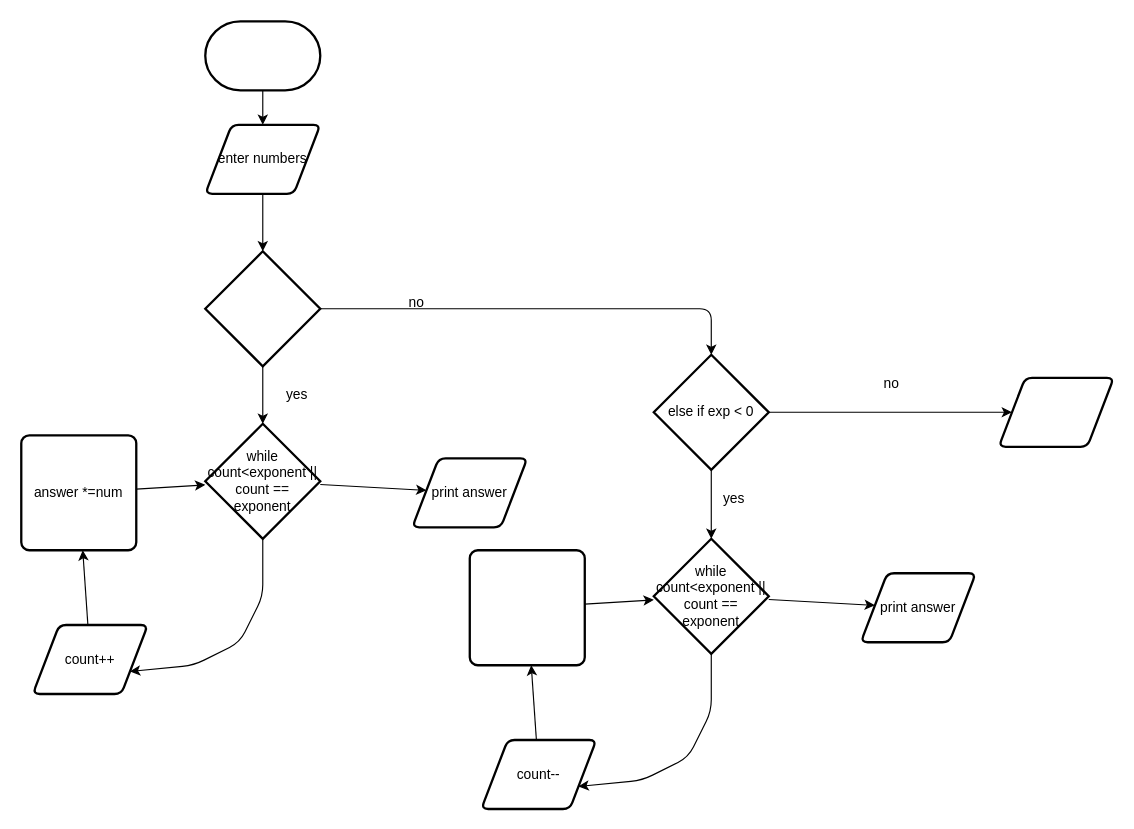
This 1134x829 diagram has some shape labels left out. Here are the shapes that lost their labels. From the top down, the box of each, then its label:
(204, 20, 321, 91): start
(204, 250, 321, 367): if exp > o
(997, 376, 1114, 447): "your answer is 1"
(468, 549, 585, 666): answer /=num
